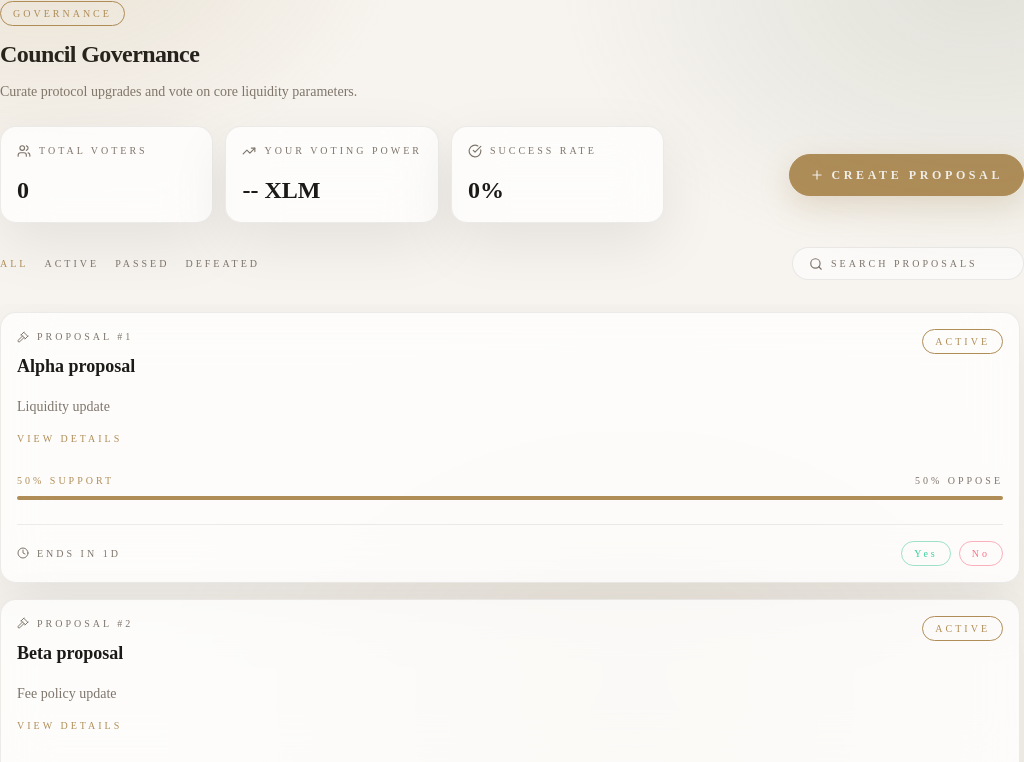
Test: GovernanceView › filters proposals using search input
This screenshot has width=1024, height=762.
Expected: the heading "Alpha proposal" is shown, [17,352,135,380]
Expected: the heading "Beta proposal" is shown, [17,639,133,667]
Type "beta" into the field labelled "Search proposals" at point(919, 264), box [831,256,1007,271]
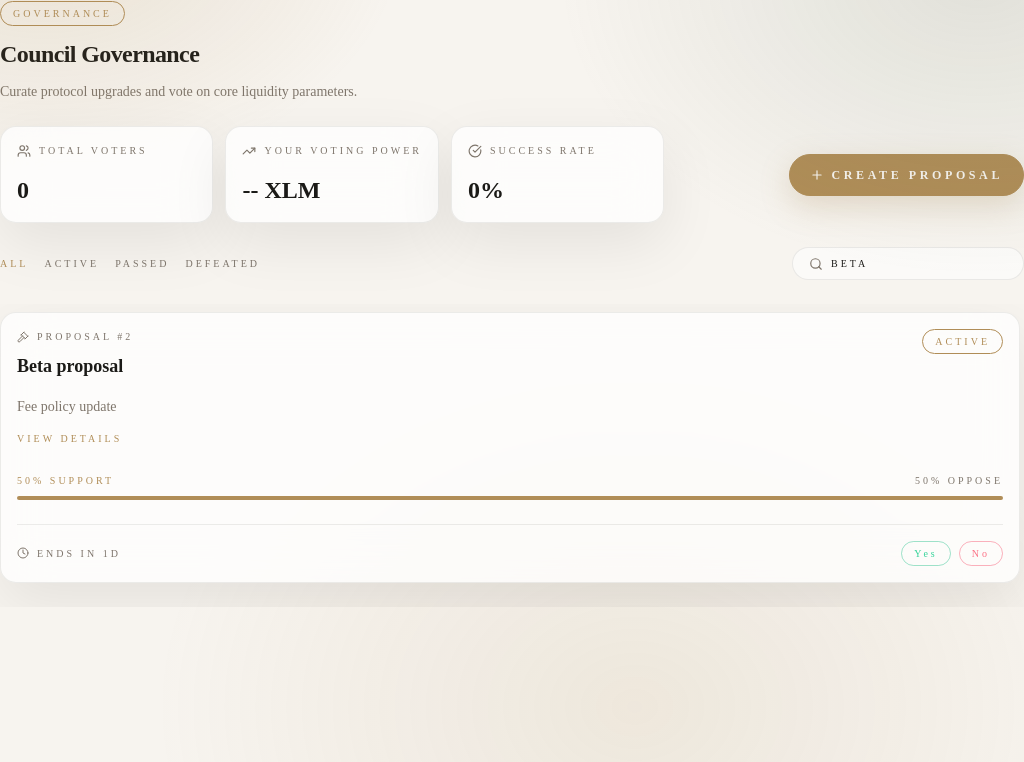
Expected: the heading "Beta proposal" is shown, [17,352,133,380]
Expected: the heading "Alpha proposal" is gone
